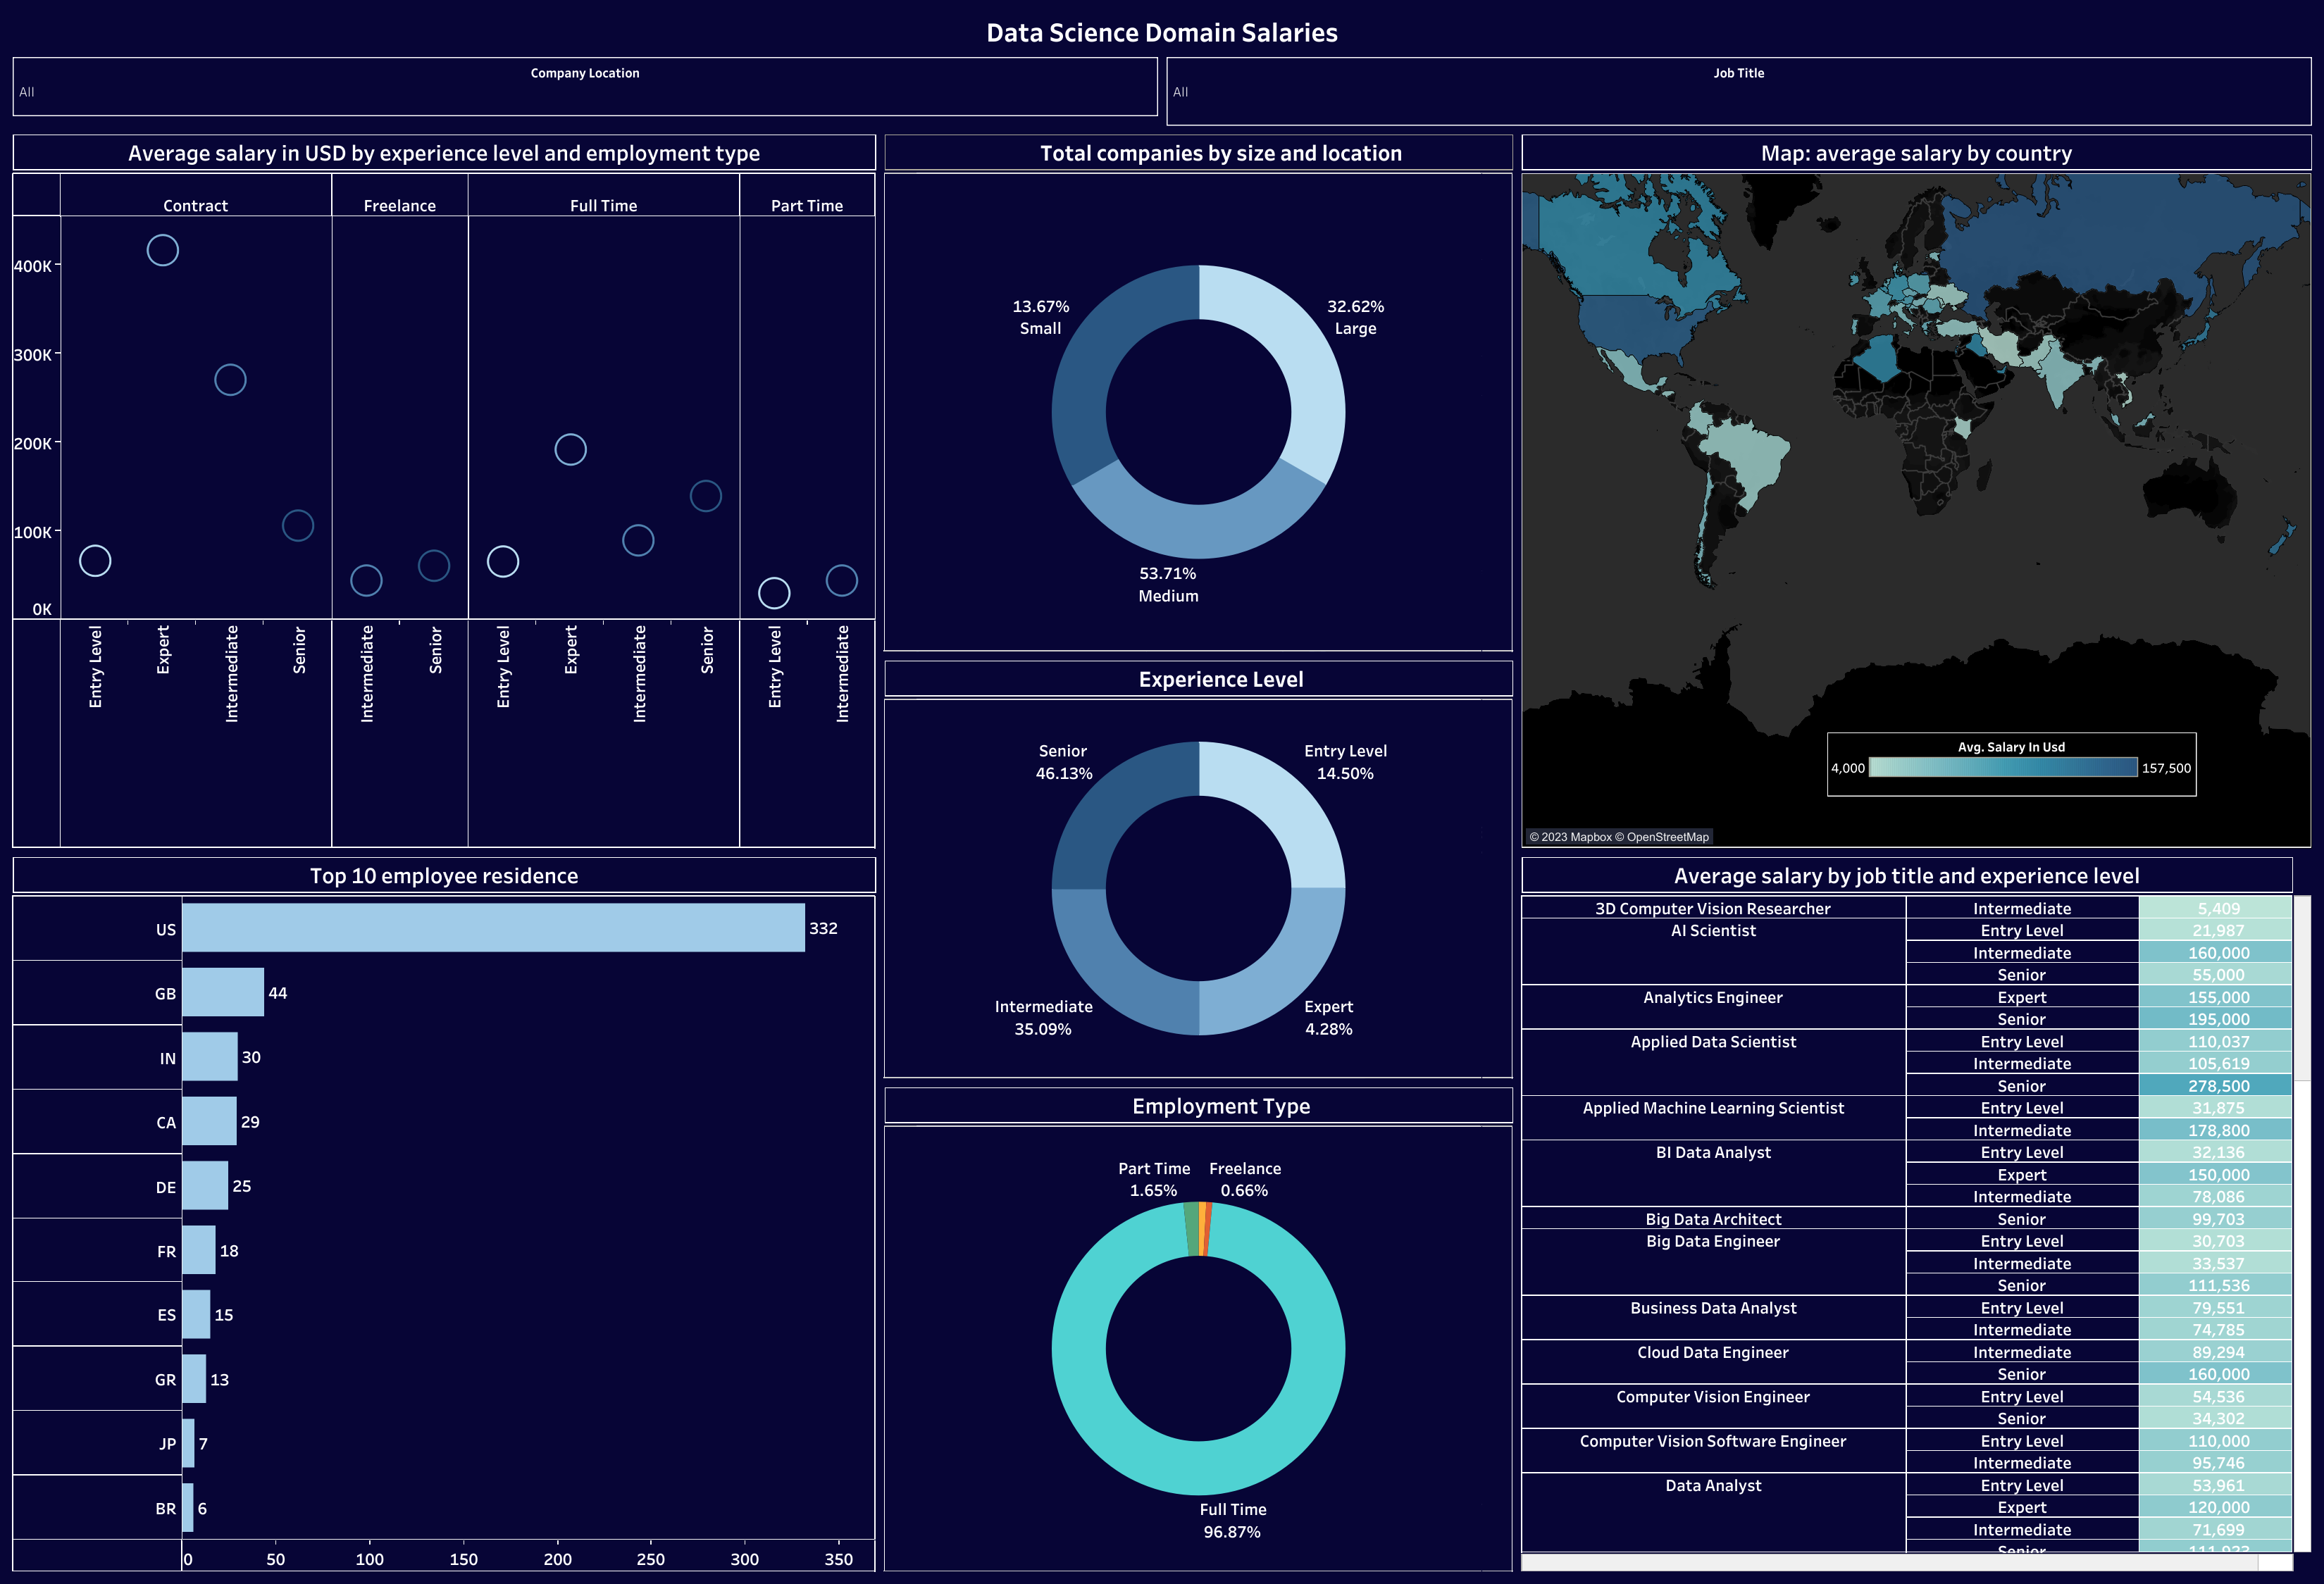

What the dashboard file says about the page in this screenshot:
{"tool":"tableau","page":{"name":"Dashboard 1","canvas":[2200,1500],"ordinal":0},"visuals":[{"type":"title","box":[8,8,2184,57]},{"type":"filter","title":"Total companies by size and location","param":"[federated.01nyjd201p9pqd1dcizff0x6cs48].[none:company_location:nk]","box":[8,65,1092,72.1]},{"type":"filter","title":"Map: average salary by country","param":"[federated.01nyjd201p9pqd1dcizff0x6cs48].[none:job_title:nk]","box":[1100,65,1092,72.1]},{"type":"worksheet","title":"Average salary in USD by experience level and employment type","mark":"Shape","rows":["salary_in_usd"],"cols":["employment_type","experience_level"],"box":[8,137.1,825,677.4]},{"type":"worksheet","title":"Total companies by size and location","mark":"Pie","rows":["Calculation_482729615826636801","Calculation_482729615826636801"],"box":[833,137.1,603,493.3]},{"type":"worksheet","title":"Map: average salary by country","mark":"Automatic","box":[1436,137.1,756,677.4]},{"type":"worksheet","title":"Experience Level","mark":"Pie","rows":["Calculation_482729615826636801","Calculation_482729615826636801"],"box":[833,630.3,603,399.1]},{"type":"legend","title":"Map: average salary by country","param":"[federated.01nyjd201p9pqd1dcizff0x6cs48].[avg:salary_in_usd:qk]","box":[1729,693,350,105]},{"type":"worksheet","title":"Top 10 employee residence","mark":"Automatic","rows":["employee_residence"],"cols":["employee_residence"],"box":[8,814.5,825,677.5]},{"type":"worksheet","title":"Average salary by job title and experience level","mark":"Square","rows":["job_title","experience_level"],"box":[1436,814.5,756,677.5]},{"type":"worksheet","title":"Employment Type","mark":"Pie","rows":["Calculation_482729615826636801","Calculation_482729615826636801"],"box":[833,1029.4,603,462.6]}]}

Visuals, with their boxes in screenshot pixels (x1, y1, x2, y2), scaled from the page's 2200x1500 canvas onto the 2324x1584 screenshot:
title: (8, 8, 2316, 68)
"Total companies by size and location" filter: (8, 68, 1162, 145)
"Map: average salary by country" filter: (1162, 68, 2316, 145)
"Average salary in USD by experience level and employment type" worksheet (Shape marks): (8, 145, 880, 860)
"Total companies by size and location" worksheet (Pie marks): (880, 145, 1517, 666)
"Map: average salary by country" worksheet: (1517, 145, 2316, 860)
"Experience Level" worksheet (Pie marks): (880, 666, 1517, 1087)
"Map: average salary by country" legend: (1827, 732, 2196, 842)
"Top 10 employee residence" worksheet: (8, 860, 880, 1576)
"Average salary by job title and experience level" worksheet (Square marks): (1517, 860, 2316, 1576)
"Employment Type" worksheet (Pie marks): (880, 1087, 1517, 1576)
